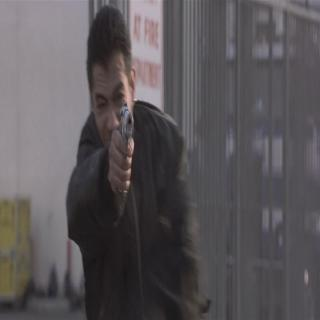gun: (110, 97, 135, 200)
